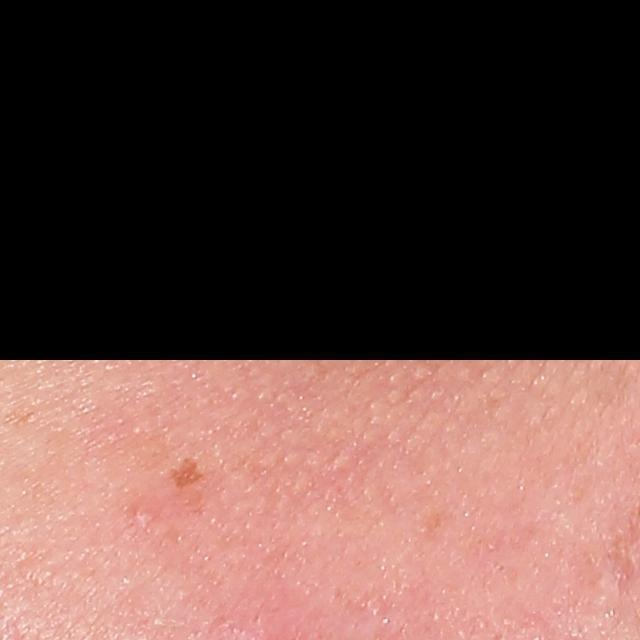melasma: (166, 454, 207, 491)
